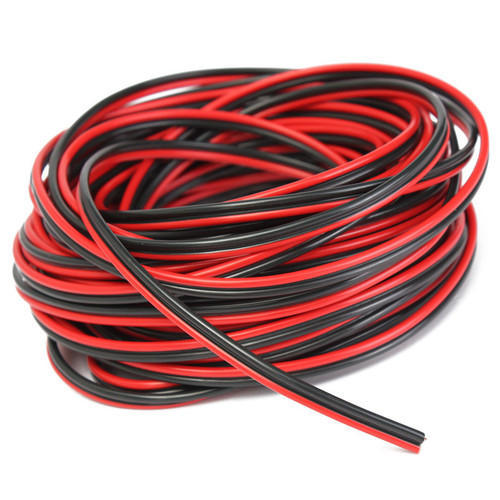Nonrec_Tangler: (7, 41, 490, 457)
